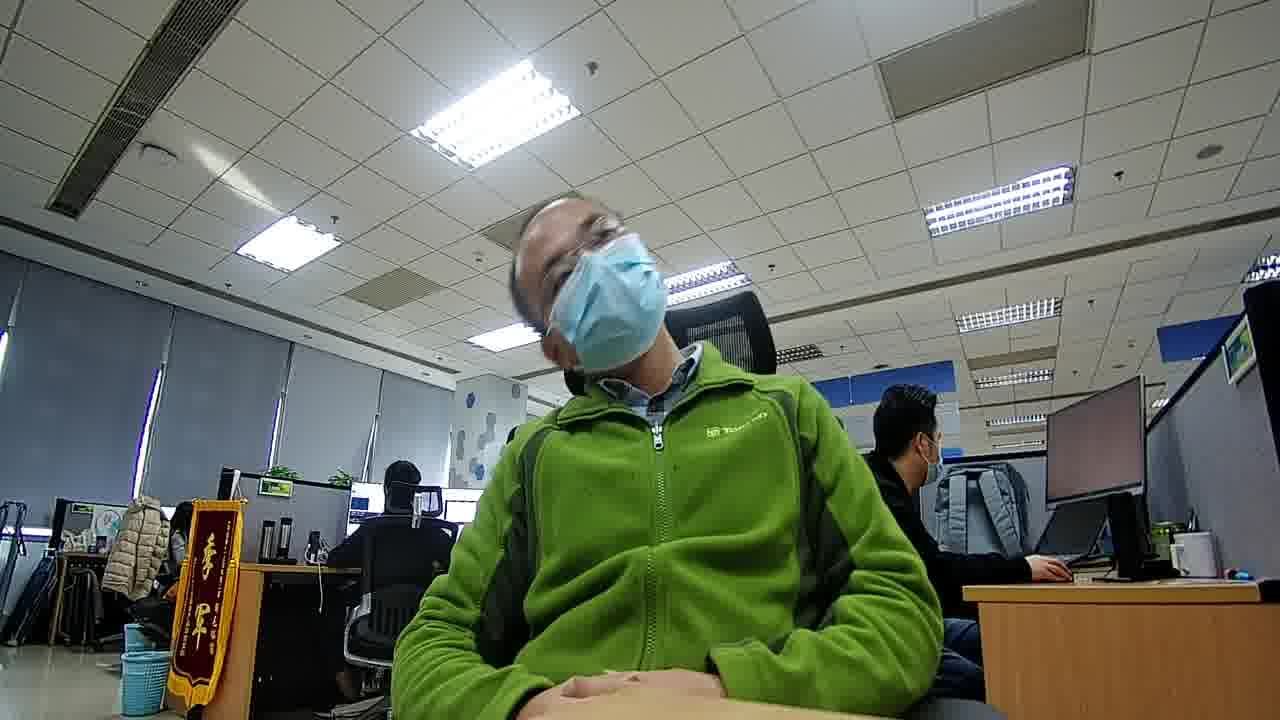face: (517, 202, 668, 370)
mask: (545, 232, 669, 368)
person: (492, 189, 821, 458), (854, 376, 974, 542), (356, 454, 443, 538), (165, 493, 195, 548)
